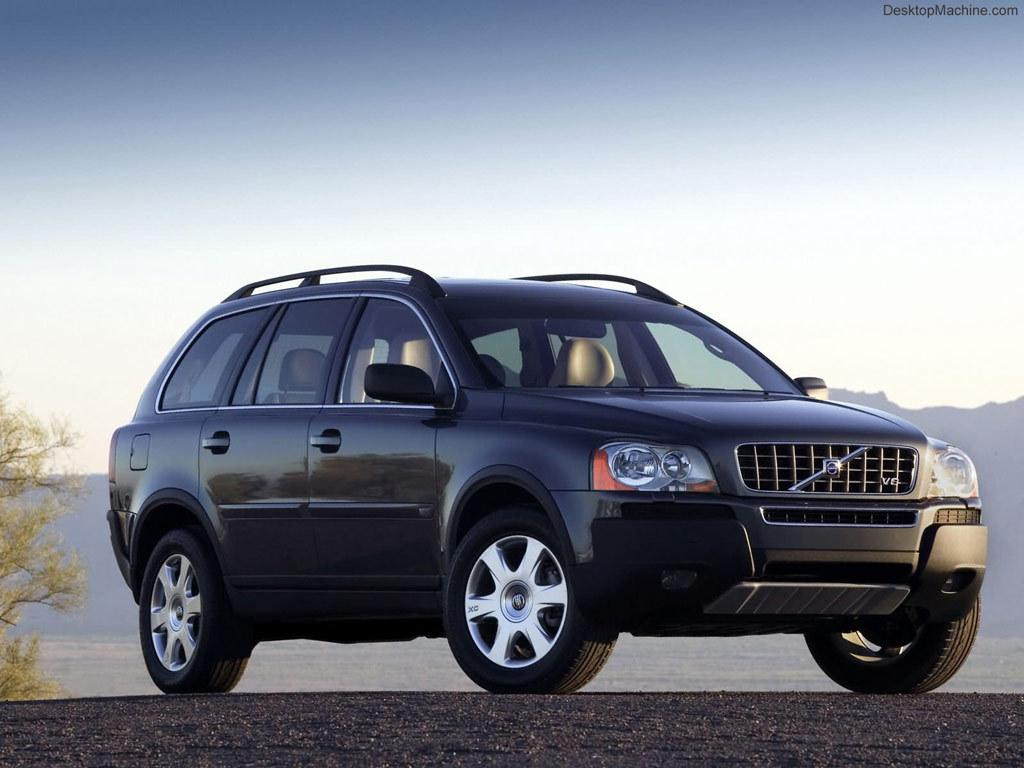car: (43, 205, 1011, 741)
